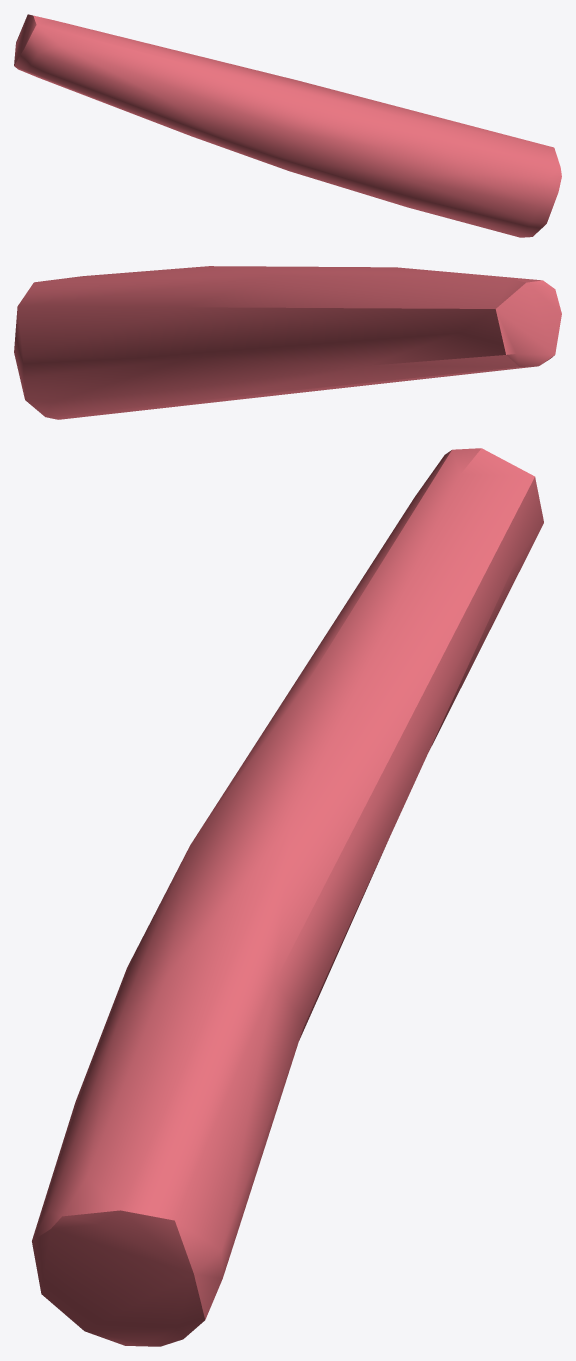
Rendered from fma8620_fj6050.glb.
3 renders of one model, top to bottom at view 1: azimuth 30°, elevation 25°; view 2: azimuth 150°, elevation 25°; view 3: azimuth 270°, elevation 25°, orthographic. The views are drawn at different scales.
Visible parts, largest first — view 1: FMA8620_FJ6050; view 2: FMA8620_FJ6050; view 3: FMA8620_FJ6050.
Part boxes in pixels (box(x1,y1,x2,y2)): FMA8620_FJ6050: box(14, 14, 561, 237); FMA8620_FJ6050: box(14, 266, 561, 419); FMA8620_FJ6050: box(32, 448, 543, 1346).
Bounding box in the file's own units: 0.0168 × 0.00907 × 0.00828.
